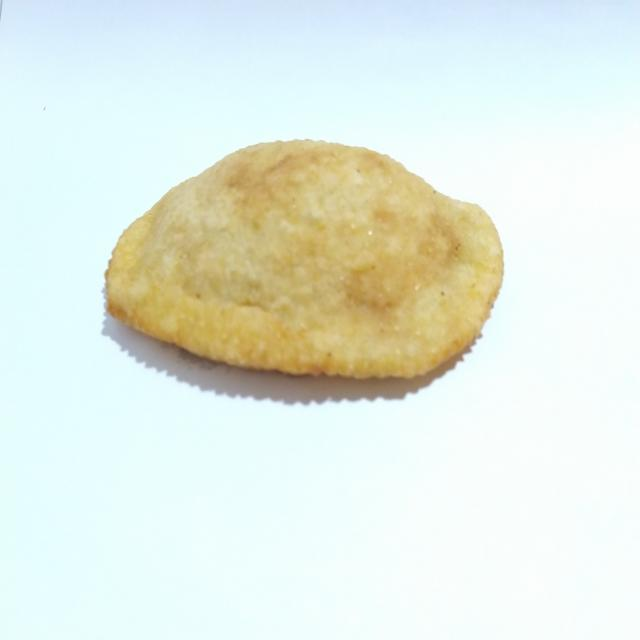Pastel_Mandio: (81, 122, 516, 403)
